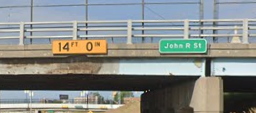0: (84, 40, 93, 51)
1: (56, 41, 62, 53)
4: (61, 41, 70, 52)
overheadsign: (52, 39, 107, 56)
